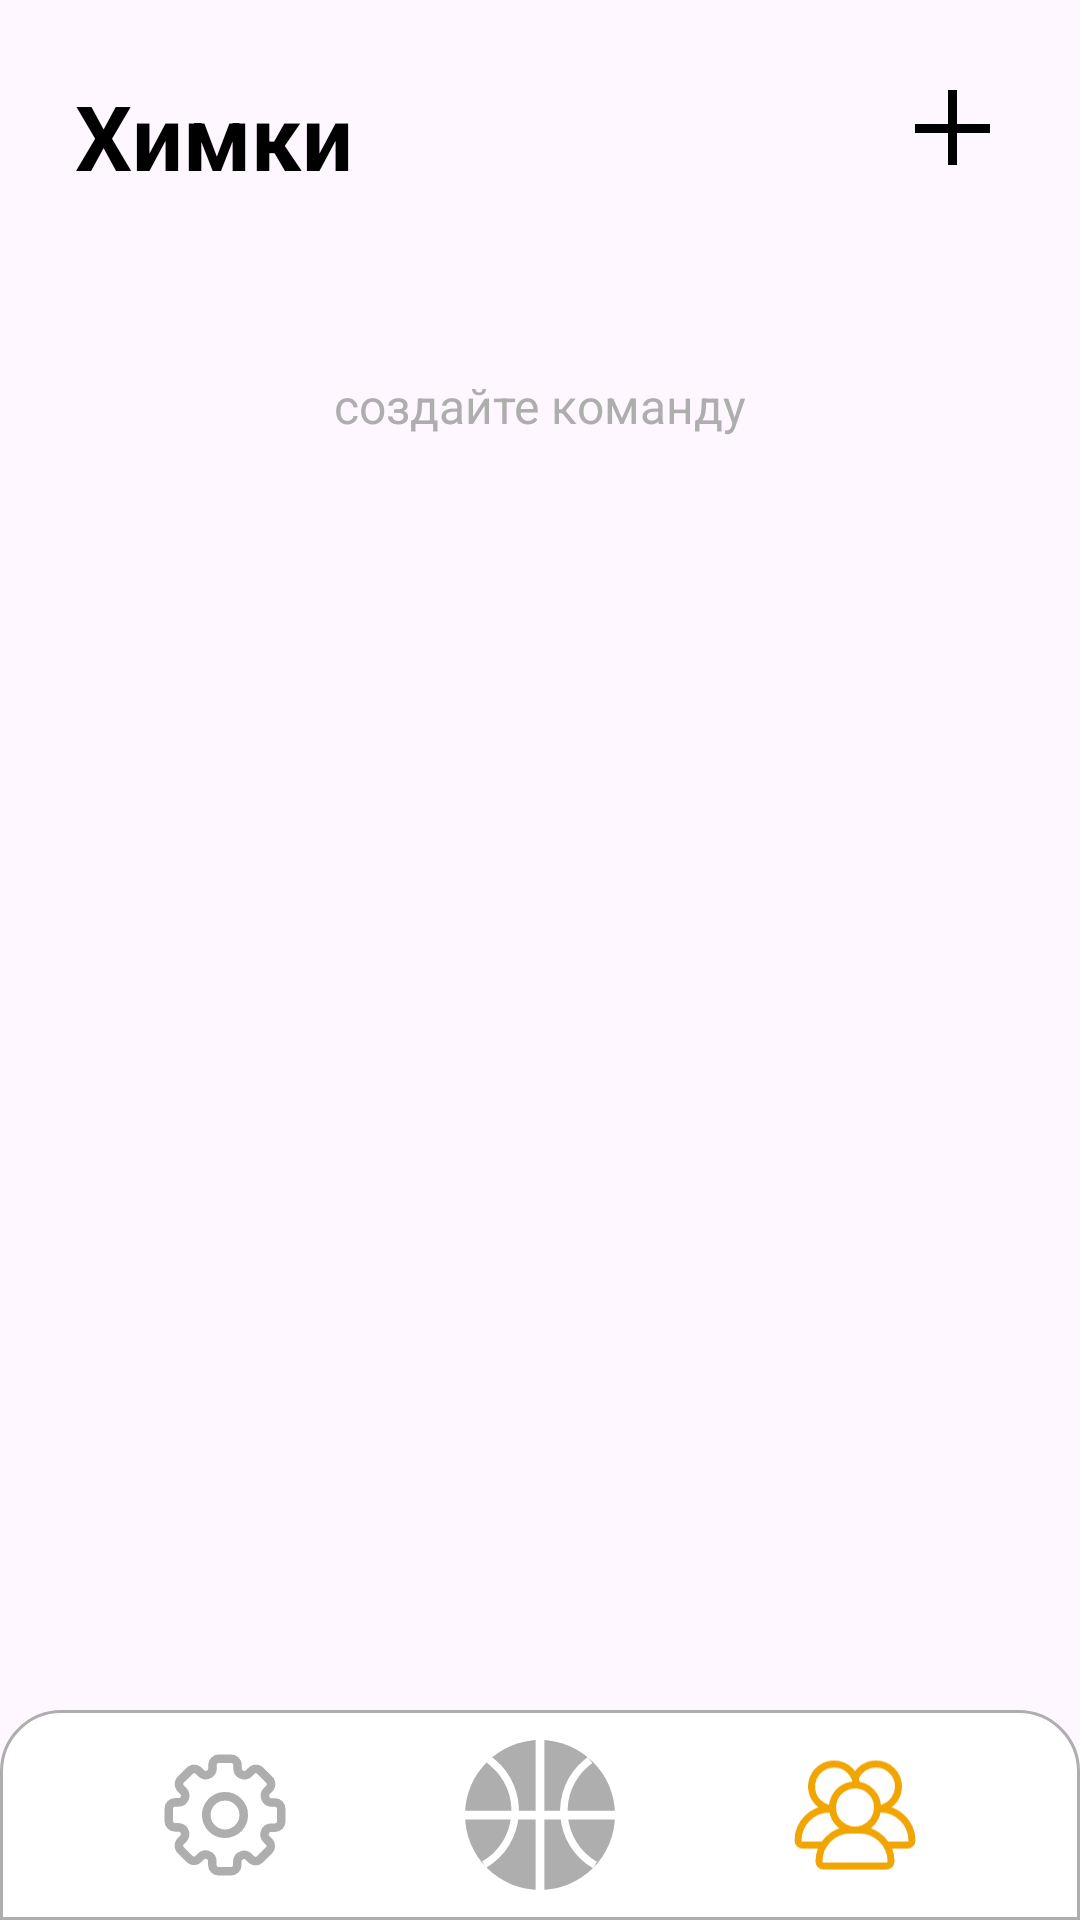

Screen size 1080×1920. Icon name, then its box in pixels as (left=x1, top=y1, right=x2, bottom=y2):
ball: (left=465, top=1740, right=615, bottom=1890)
plus: (left=915, top=90, right=990, bottom=165)
settings: (left=164, top=1754, right=286, bottom=1876)
teams select: (left=794, top=1760, right=916, bottom=1870)
